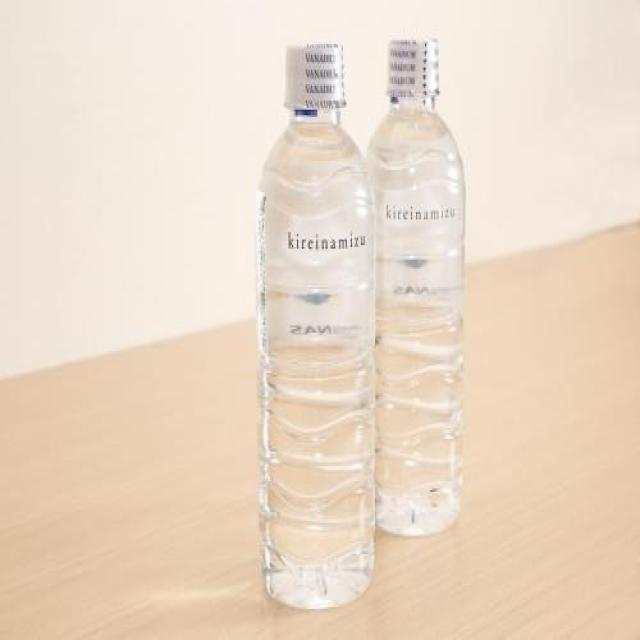bottle: (245, 26, 389, 618), (352, 23, 475, 548)
